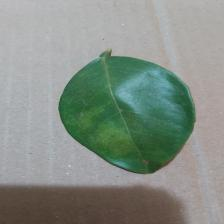greening: (59, 46, 202, 179)
